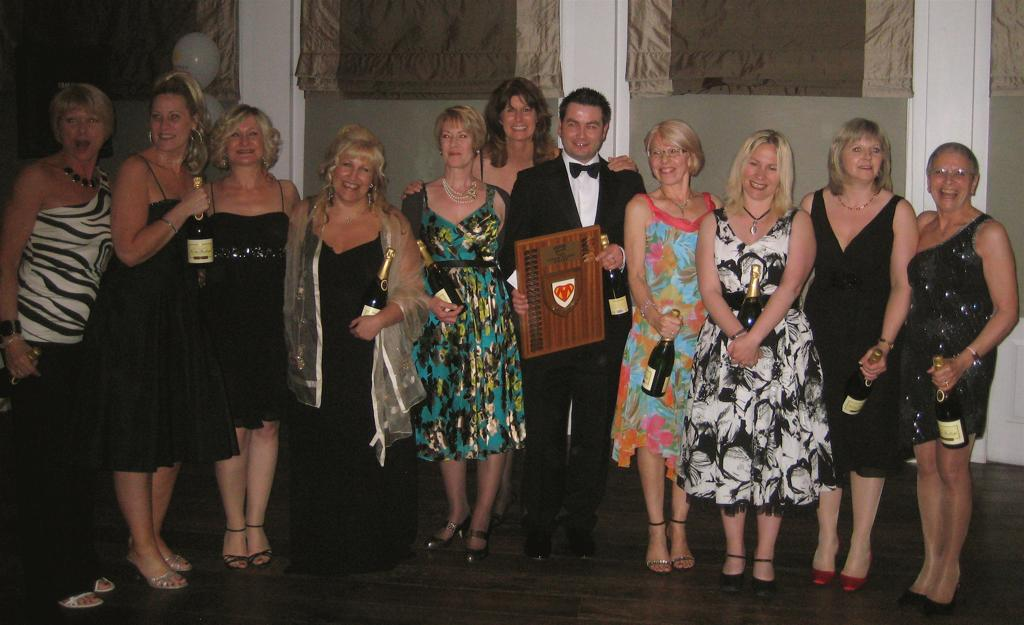face: (151, 94, 191, 152), (743, 144, 783, 202), (61, 110, 106, 161), (933, 152, 971, 212), (563, 102, 603, 158), (333, 155, 376, 203), (649, 136, 690, 186), (228, 117, 265, 167), (843, 138, 882, 182), (441, 120, 476, 166), (505, 98, 538, 141)
